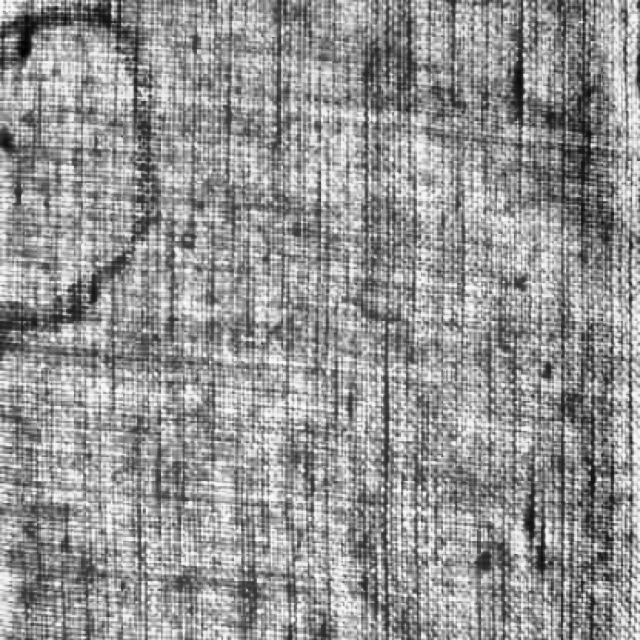oil_spot: (0, 0, 178, 351)
